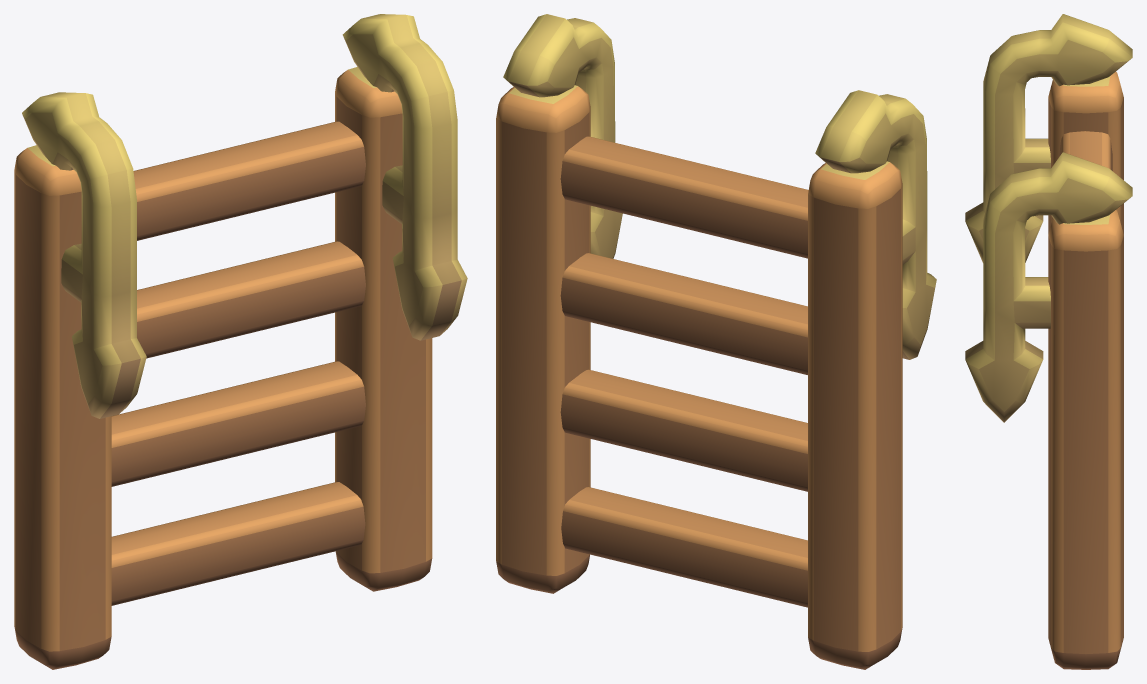
File: JungleWood_Ladder_Top.fbx
3 views of the same model, side by side, from view 1: azimuth 30°, elevation 25°; view 2: azimuth 150°, elevation 25°; view 3: azimuth 270°, elevation 25° (orthographic). The views are drawn at different scales.
Visible parts, largest first — view 1: JungleWood_Ladder_Top_LOD0; view 2: JungleWood_Ladder_Top_LOD0; view 3: JungleWood_Ladder_Top_LOD0.
Boxes of the visible parts, x1,y1,x2,y2 form: JungleWood_Ladder_Top_LOD0: (14, 14, 467, 669); JungleWood_Ladder_Top_LOD0: (496, 14, 936, 669); JungleWood_Ladder_Top_LOD0: (965, 14, 1132, 669).
Size of what is drawn, in the model's own units: 0.8613 by 1.19 by 0.3586.
